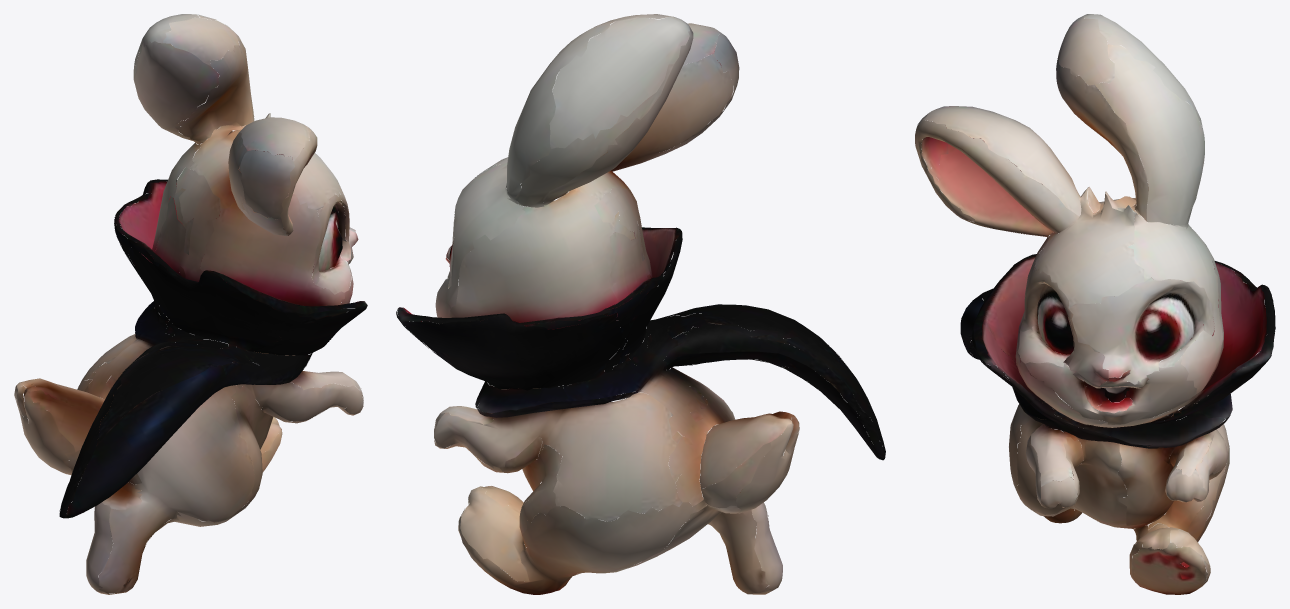
File: vampire_bunny.glb
3 renders of one model, left to right at view 1: azimuth 30°, elevation 25°; view 2: azimuth 150°, elevation 25°; view 3: azimuth 270°, elevation 25°, orthographic. The views are drawn at different scales.
Visible parts, largest first — view 1: geometry_0; view 2: geometry_0; view 3: geometry_0.
Part boxes in pixels (box(x1,y1,x2,y2)): geometry_0: box(14, 14, 367, 594); geometry_0: box(396, 14, 885, 594); geometry_0: box(915, 14, 1275, 594).
Size of the model in its own units: 0.6978 by 1 by 0.6145.
1 material, 1 textured.
